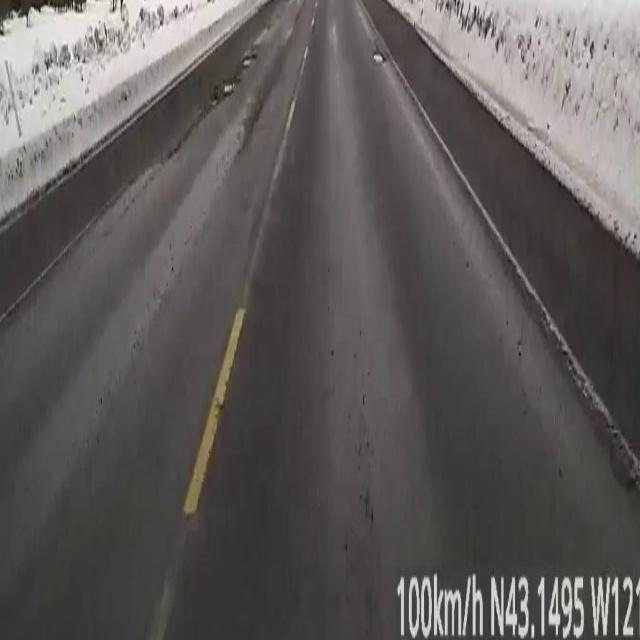pothole: (222, 78, 235, 95), (242, 54, 255, 68), (373, 52, 384, 62), (209, 95, 218, 104)
